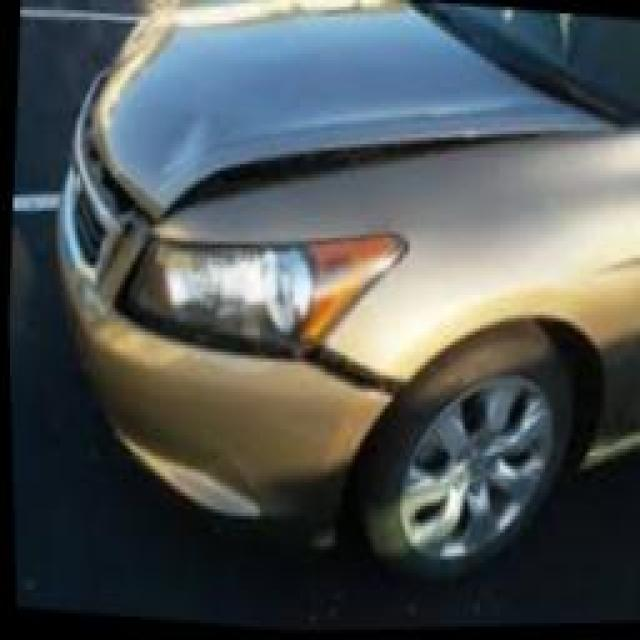Bonnet: (91, 0, 610, 217)
Bumper: (53, 69, 394, 531)
